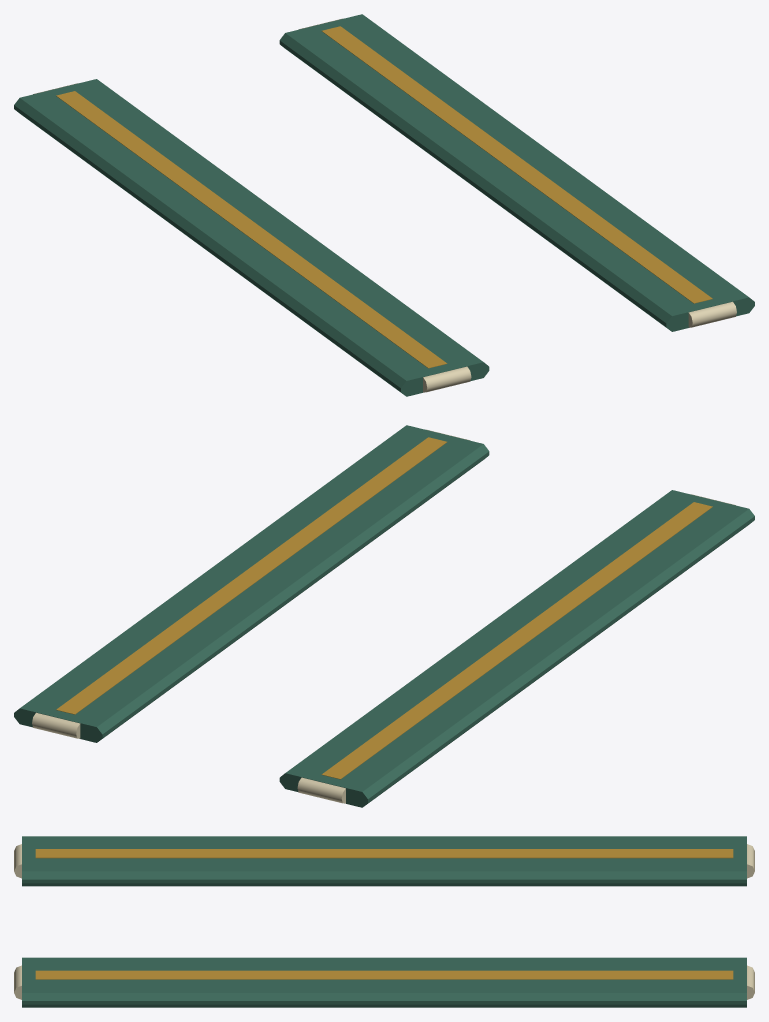
The model's file is hangar2_cradles.obj.
3 renders of one model, top to bottom at view 1: azimuth 30°, elevation 25°; view 2: azimuth 150°, elevation 25°; view 3: azimuth 270°, elevation 25°, orthographic. The views are drawn at different scales.
Visible parts, largest first — view 1: hangar2_cradles; view 2: hangar2_cradles; view 3: hangar2_cradles.
Boxes of the visible parts, box(x1,y1,x2,y2) form: hangar2_cradles: box(14, 14, 754, 396); hangar2_cradles: box(14, 425, 754, 807); hangar2_cradles: box(14, 836, 754, 1007).
Bounding box in the file's own units: 5.6 × 0.246 × 10.83.
